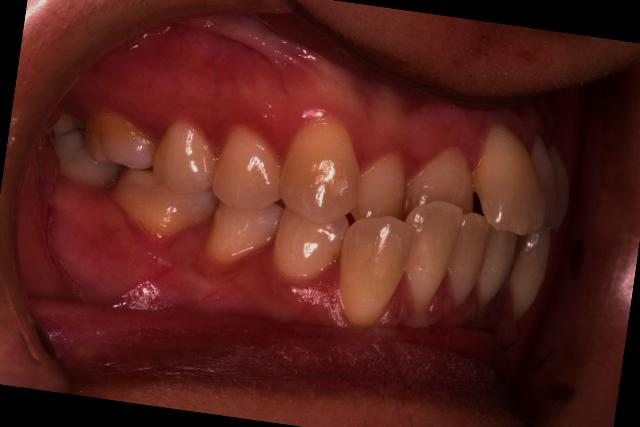canine class III 1/2: (257, 108, 425, 338)
molar class III 3/4: (58, 101, 223, 262)
